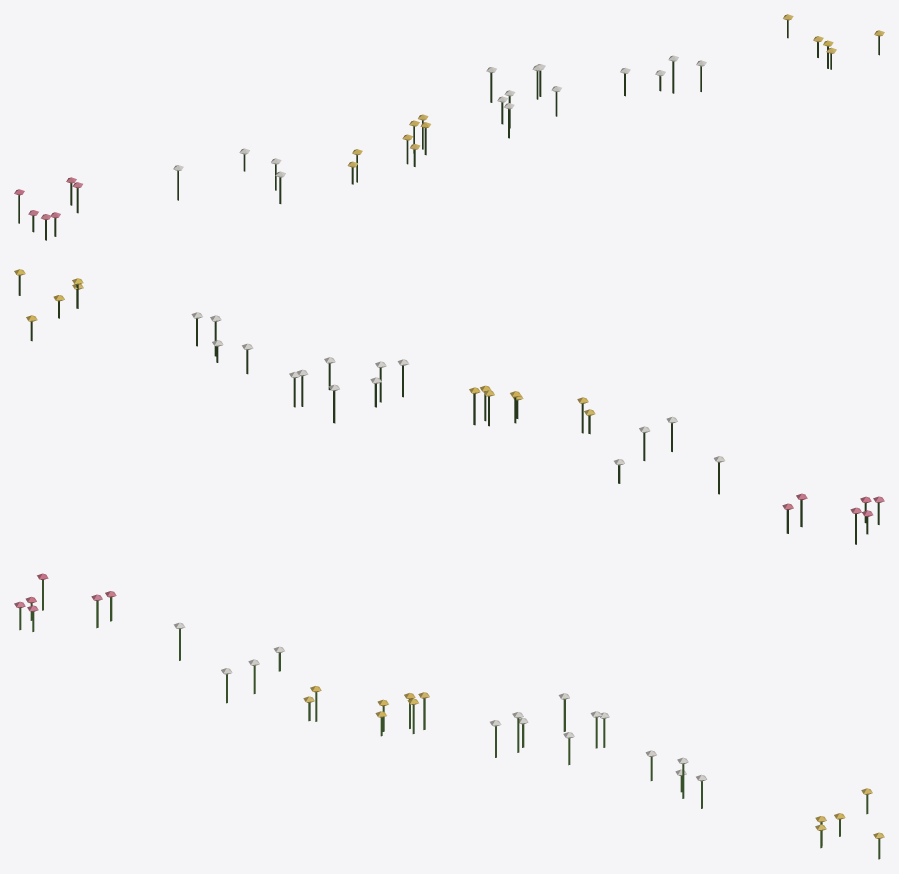
The model's file is ranvora_v2_flowers.glb.
The picture shows the model from 3 angles, top to bottom: view 1: azimuth 30°, elevation 25°; view 2: azimuth 150°, elevation 25°; view 3: azimuth 330°, elevation 25°; orthographic projection. The views are drawn at different scales.
Parts seen in each view (by area): view 1: flowers_D_mesh, flowers_C_mesh, flowers_A_mesh; view 2: flowers_D_mesh, flowers_C_mesh, flowers_A_mesh; view 3: flowers_D_mesh, flowers_C_mesh, flowers_A_mesh.
Boxes of the visible parts, x1,y1,x2,y2 form: flowers_D_mesh: [486, 64, 561, 138]; flowers_C_mesh: [347, 114, 430, 184]; flowers_A_mesh: [14, 177, 82, 240]; flowers_D_mesh: [289, 357, 408, 423]; flowers_C_mesh: [469, 385, 595, 434]; flowers_A_mesh: [782, 493, 884, 544]; flowers_D_mesh: [490, 693, 609, 765]; flowers_C_mesh: [303, 686, 429, 736]; flowers_A_mesh: [14, 573, 116, 631].
Bounding box in the file's own units: 9.01 × 0.394 × 1.08.
